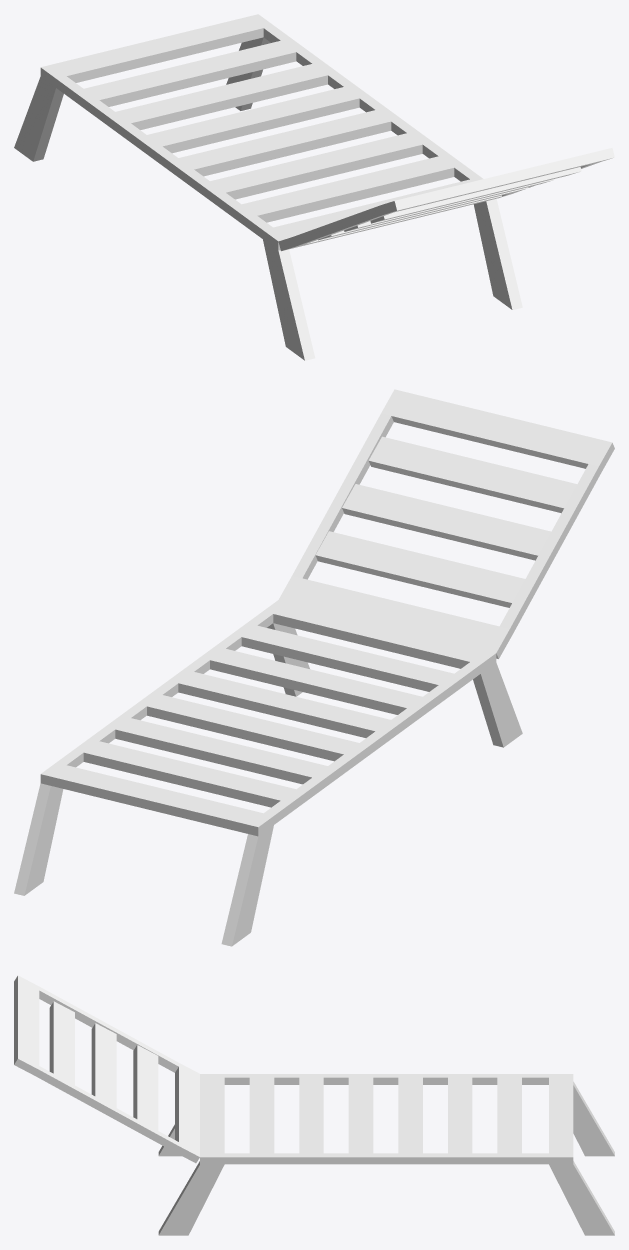
The model's file is Beach Bench.fbx.
3 renders of one model, top to bottom at view 1: azimuth 30°, elevation 25°; view 2: azimuth 150°, elevation 25°; view 3: azimuth 270°, elevation 25°, orthographic. The views are drawn at different scales.
Parts seen in each view (by area): view 1: pCube157; view 2: pCube157; view 3: pCube157.
Boxes of the visible parts, x1=… form: pCube157: x1=14, y1=14, x2=614, y2=360; pCube157: x1=14, y1=389, x2=614, y2=946; pCube157: x1=14, y1=975, x2=614, y2=1235.
Bounding box in the file's own units: 0.4966 × 0.4913 × 1.51.
